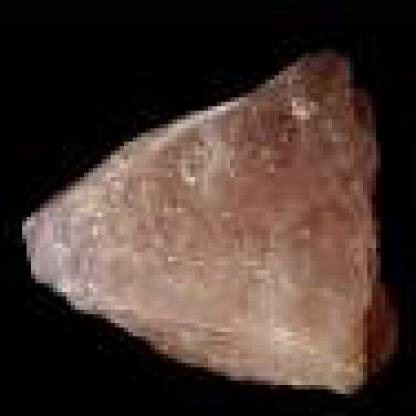Metamorphic_Quartize: (17, 31, 402, 394)
